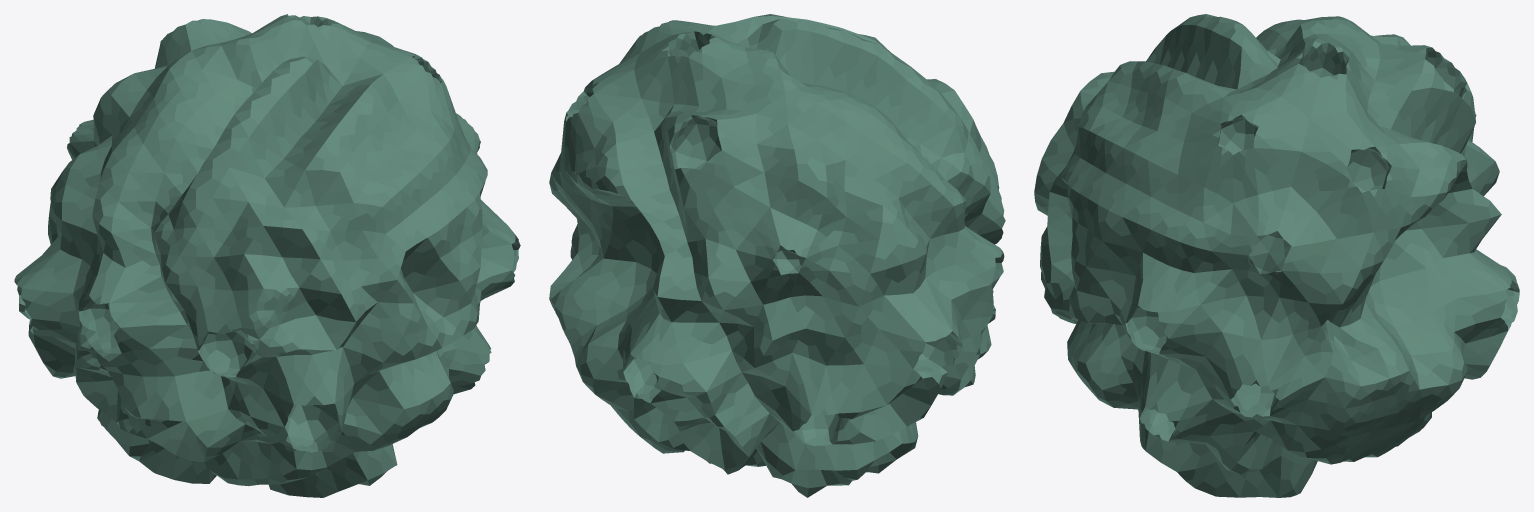
File: shroomSeedVF.fbx
3 renders of one model, left to right at view 1: azimuth 30°, elevation 25°; view 2: azimuth 150°, elevation 25°; view 3: azimuth 270°, elevation 25°, orthographic. The views are drawn at different scales.
Parts seen in each view (by area): view 1: Icosphere; view 2: Icosphere; view 3: Icosphere.
Part boxes in pixels (bbox=[...]): Icosphere: bbox=[14, 14, 520, 497]; Icosphere: bbox=[549, 14, 1005, 497]; Icosphere: bbox=[1034, 14, 1519, 497].
Bounding box in the file's own units: 76.85 × 76.25 × 74.36.
